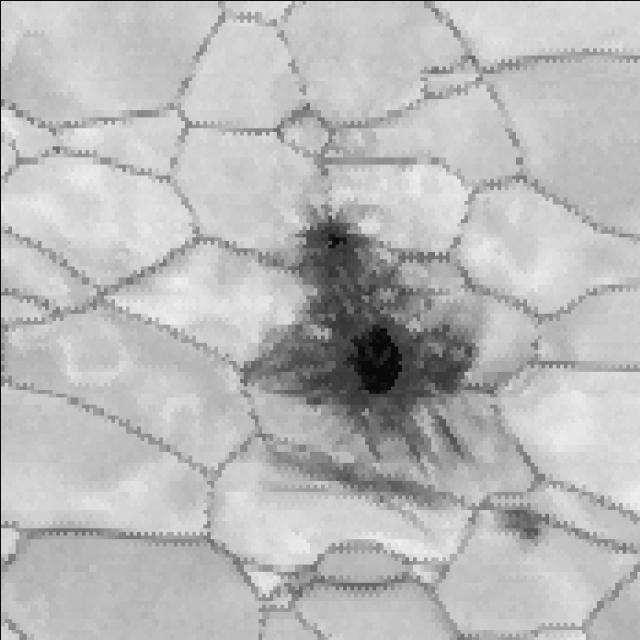good_void: (233, 199, 498, 476), (243, 432, 454, 534), (480, 498, 555, 551), (41, 137, 70, 163), (307, 160, 340, 182)
